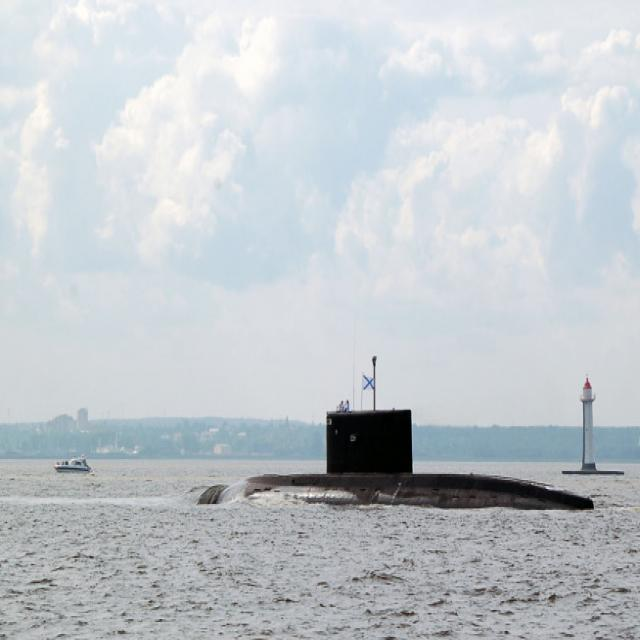submarine: (156, 306, 602, 544)
